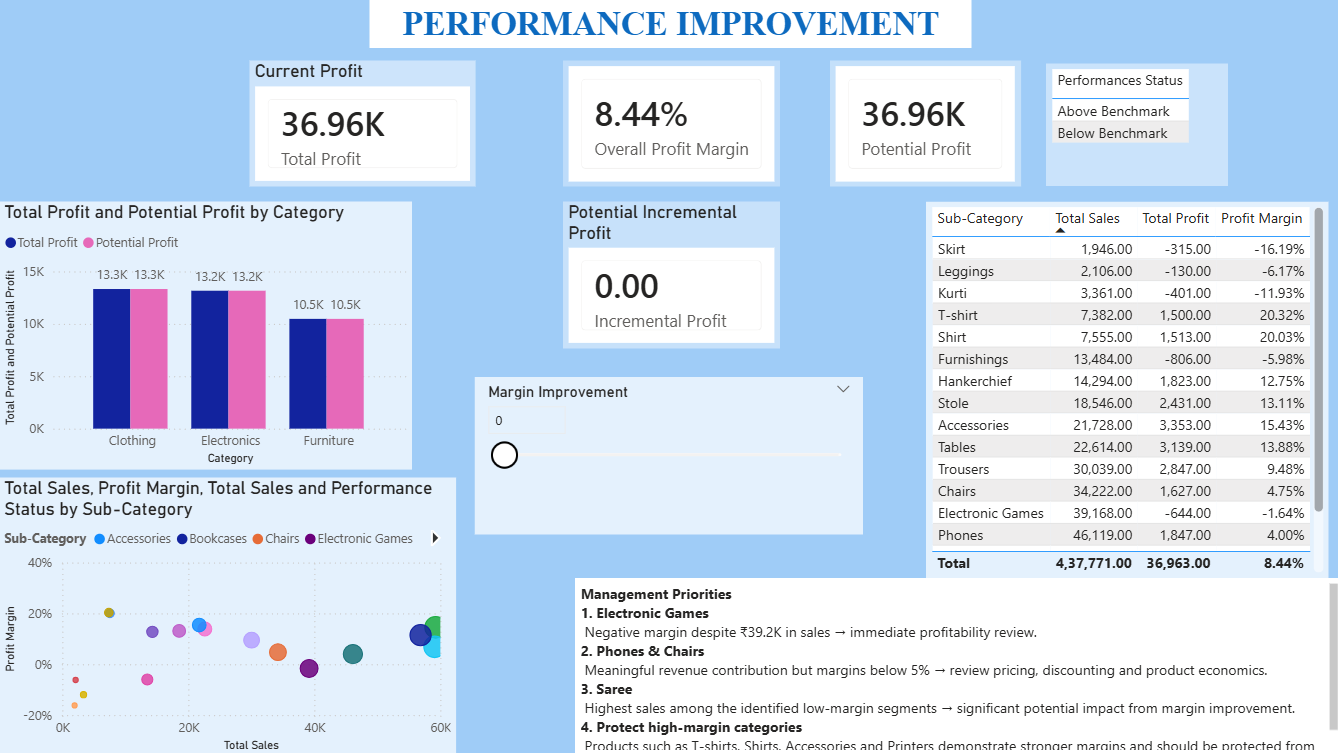

Layout of this report page (visuals, bound fields, positions):
{"tool":"powerbi","page":{"name":"Performance Improvement","canvas":[1280,720],"ordinal":2},"visuals":[{"type":"tableEx","fields":{"Values":["Details.Sub-Category","Details.Total Sales","Details.Total Profit","Details.Profit Margin"]},"box":[883.3,193.3,383.3,358.3],"z":0},{"type":"slicer","fields":{"Values":["Margin Improvement.Margin Improvement"]},"box":[453.3,360,370,150],"z":1000},{"type":"cardVisual","title":"Current Profit","fields":{"Data":["Details.Total Profit"]},"box":[238.3,58.3,215,120],"z":2000},{"type":"cardVisual","title":"Potential Incremental Profit","fields":{"Data":["Details.Incremental Profit"]},"box":[536.7,193.3,206.7,140],"z":3000},{"type":"clusteredColumnChart","fields":{"Category":["Details.Category"],"Y":["Details.Total Profit","Details.Potential Profit"]},"box":[0,193.3,393.3,255],"z":4000},{"type":"textbox","box":[353.3,0,573.3,46.7],"z":5000},{"type":"cardVisual","fields":{"Data":["Details.Potential Profit"]},"box":[791.7,58.3,181.7,120],"z":6000},{"type":"cardVisual","fields":{"Data":["Details.Overall Profit Margin"]},"box":[536.7,58.3,206.7,120],"z":7000},{"type":"scatterChart","fields":{"X":["Details.Total Sales"],"Y":["Details.Profit Margin"],"Series":["Details.Sub-Category"],"Size":["Details.Total Sales"]},"box":[0,455,435,265],"z":8000},{"type":"textbox","box":[548.3,551.7,731.7,168.3],"z":9000},{"type":"tableEx","fields":{"Values":["Details.Performances Status"]},"box":[996.7,61.7,173.3,116.7],"z":11000}]}

Visuals, with their boxes in screenshot pixels (x1, y1, x2, y2), scaled from the page's 1280x720 canvas onto the 1338x753 screenshot:
tableEx - Details.Sub-Category x Details.Total Sales: region(923, 202, 1324, 577)
slicer - Margin Improvement.Margin Improvement: region(474, 376, 861, 533)
"Current Profit" cardVisual: region(249, 61, 474, 186)
"Potential Incremental Profit" cardVisual: region(561, 202, 777, 349)
clusteredColumnChart - Details.Category x Details.Total Profit: region(0, 202, 411, 469)
textbox: region(369, 0, 969, 49)
cardVisual - Details.Potential Profit: region(828, 61, 1018, 186)
cardVisual - Details.Overall Profit Margin: region(561, 61, 777, 186)
scatterChart - Details.Total Sales x Details.Profit Margin: region(0, 476, 455, 752)
textbox: region(573, 577, 1337, 752)
tableEx - Details.Performances Status: region(1042, 65, 1223, 187)
